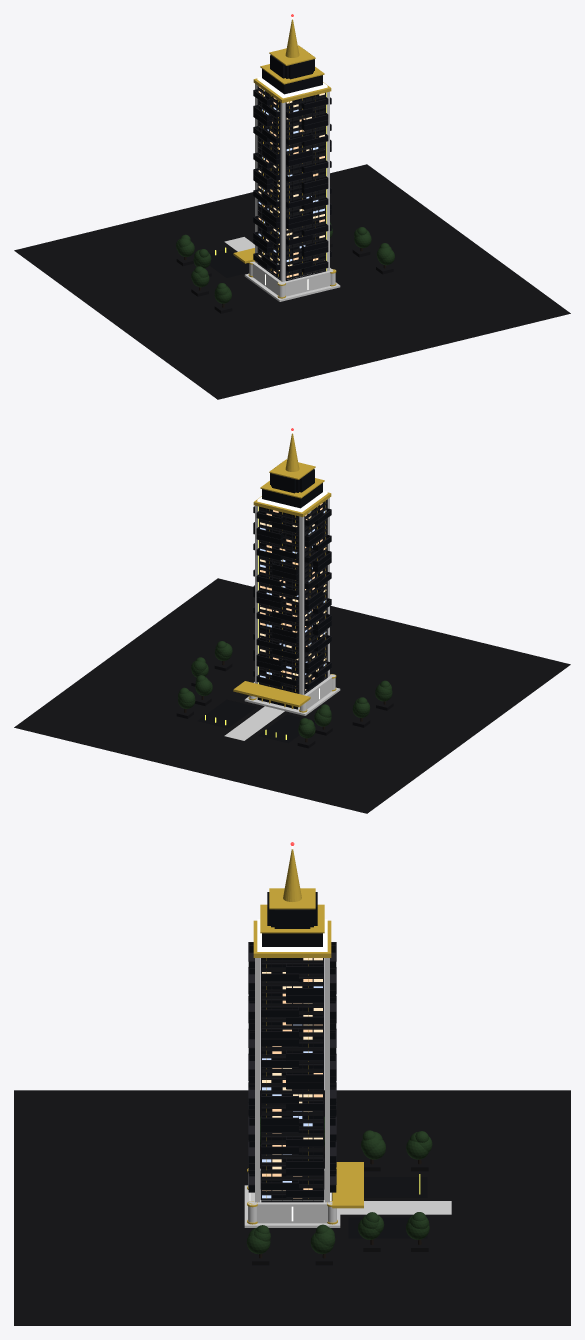
Rendered from tower.glb.
The picture shows the model from 3 angles, top to bottom: view 1: azimuth 30°, elevation 25°; view 2: azimuth 150°, elevation 25°; view 3: azimuth 270°, elevation 25°; orthographic projection. The views are drawn at different scales.
Visible parts, largest first — view 1: plaza, mullions, balcony_glass, facade_glass, balconies, mega_frame, canopies, podium, crown_gold, crown_glass, pool, planters; view 2: plaza, balcony_glass, mullions, facade_glass, canopies, balconies, mega_frame, pool, crown_gold, crown_glass, podium_gold, podium (+2 smaller); view 3: plaza, balcony_glass, mullions, facade_glass, balconies, canopies, crown_gold, podium, mega_frame, facade_struct, pool, crown_glass (+3 smaller).
Boxes of the visible parts, x1,y1,x2,y2 form: plaza: [14, 164, 570, 399]; mullions: [257, 85, 325, 280]; balcony_glass: [253, 89, 331, 273]; facade_glass: [258, 86, 324, 277]; balconies: [253, 89, 331, 273]; mega_frame: [255, 84, 329, 281]; canopies: [176, 222, 394, 303]; podium: [244, 261, 340, 301]; crown_gold: [253, 19, 331, 103]; crown_glass: [262, 55, 322, 94]; pool: [209, 249, 248, 277]; planters: [176, 242, 393, 313]; plaza: [14, 578, 570, 813]; balcony_glass: [253, 507, 331, 689]; mullions: [259, 499, 327, 694]; facade_glass: [260, 500, 326, 691]; canopies: [178, 641, 392, 738]; balconies: [253, 506, 331, 689]; mega_frame: [255, 498, 329, 694]; pool: [198, 700, 315, 742]; crown_gold: [253, 433, 331, 517]; crown_glass: [262, 469, 322, 508]; podium_gold: [233, 674, 336, 712]; podium: [244, 674, 340, 715]; plaza: [14, 1090, 570, 1325]; balcony_glass: [248, 942, 336, 1197]; mullions: [261, 958, 323, 1202]; facade_glass: [262, 958, 322, 1198]; balconies: [248, 942, 336, 1197]; canopies: [246, 1116, 432, 1254]; crown_gold: [253, 849, 331, 957]; podium: [244, 1168, 340, 1227]; mega_frame: [255, 958, 329, 1202]; facade_struct: [260, 958, 324, 1199]; pool: [348, 1177, 427, 1237]; crown_glass: [262, 892, 322, 946].
Bounding box in the file's own units: 70 × 50.75 × 70.
